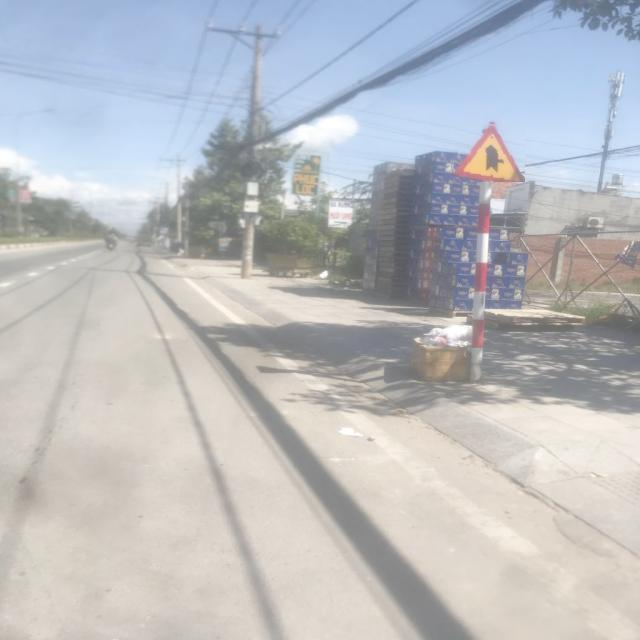207-giao-nhau-voi-duong-khong-uu-tien: (454, 122, 524, 186)
